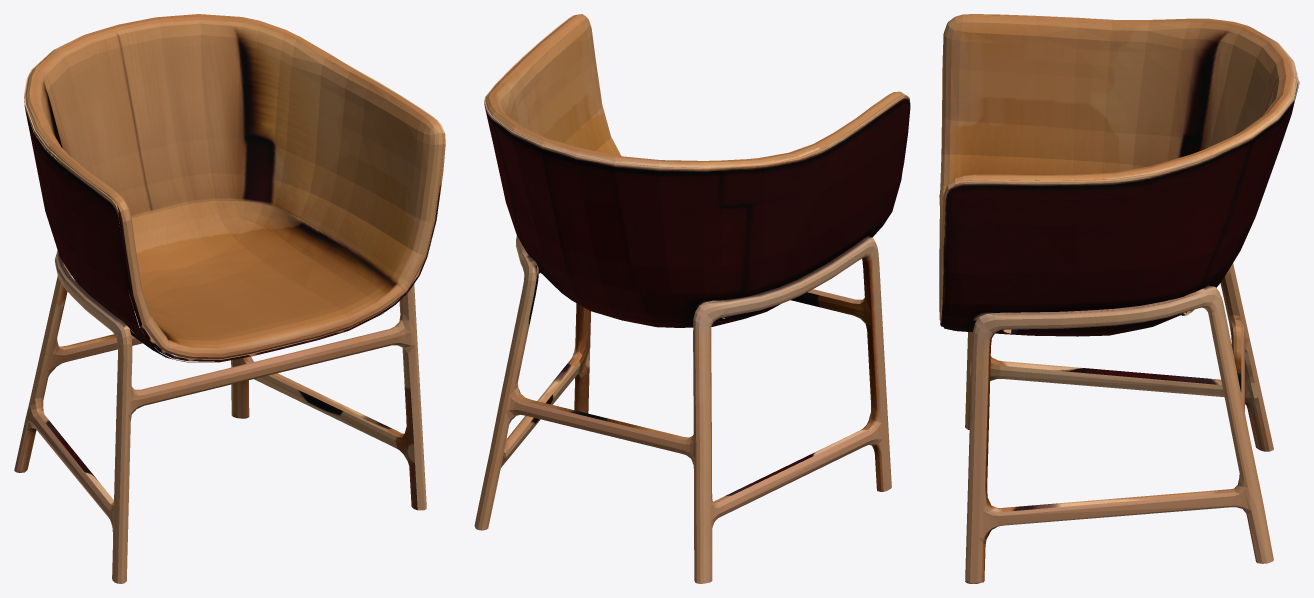
Rendered from edited_mesh.glb.
3 renders of one model, left to right at view 1: azimuth 30°, elevation 25°; view 2: azimuth 150°, elevation 25°; view 3: azimuth 270°, elevation 25°, orthographic. The views are drawn at different scales.
Parts seen in each view (by area): view 1: normalized_model.obj; view 2: normalized_model.obj; view 3: normalized_model.obj.
Boxes of the visible parts, x1=… form: normalized_model.obj: x1=14, y1=14, x2=445, y2=583; normalized_model.obj: x1=474, y1=14, x2=910, y2=583; normalized_model.obj: x1=939, y1=14, x2=1299, y2=583.
Bounding box in the file's own units: 1.18 × 1.41 × 1.07.
1 material, 1 textured.
